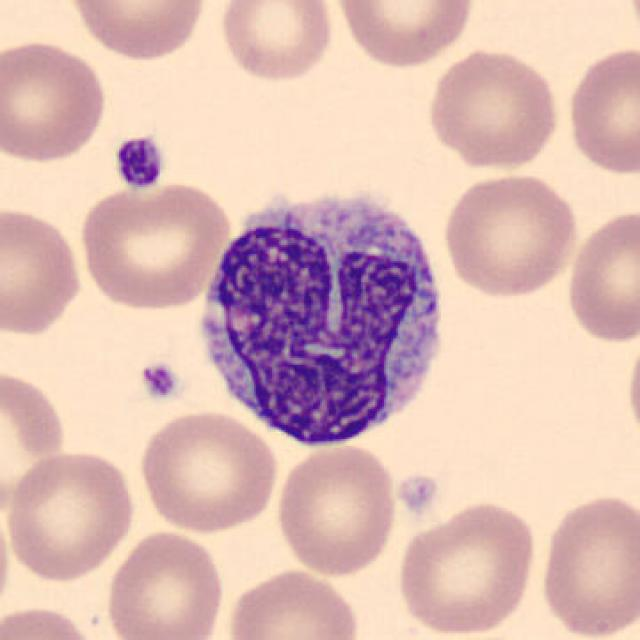Monocyte: (187, 176, 457, 460)
Platelets: (110, 132, 167, 192), (135, 356, 183, 406)
RBC: (76, 178, 233, 314), (393, 496, 540, 638), (1, 450, 138, 588), (135, 407, 281, 536), (439, 169, 580, 300), (272, 439, 402, 578), (422, 44, 564, 171), (535, 488, 638, 640), (101, 527, 228, 640), (0, 37, 110, 166), (0, 201, 87, 339), (0, 362, 71, 520), (562, 205, 638, 348), (215, 0, 337, 86), (331, 0, 478, 71), (222, 566, 363, 640), (562, 42, 638, 176), (62, 0, 211, 63), (0, 601, 101, 640), (624, 323, 640, 455)
